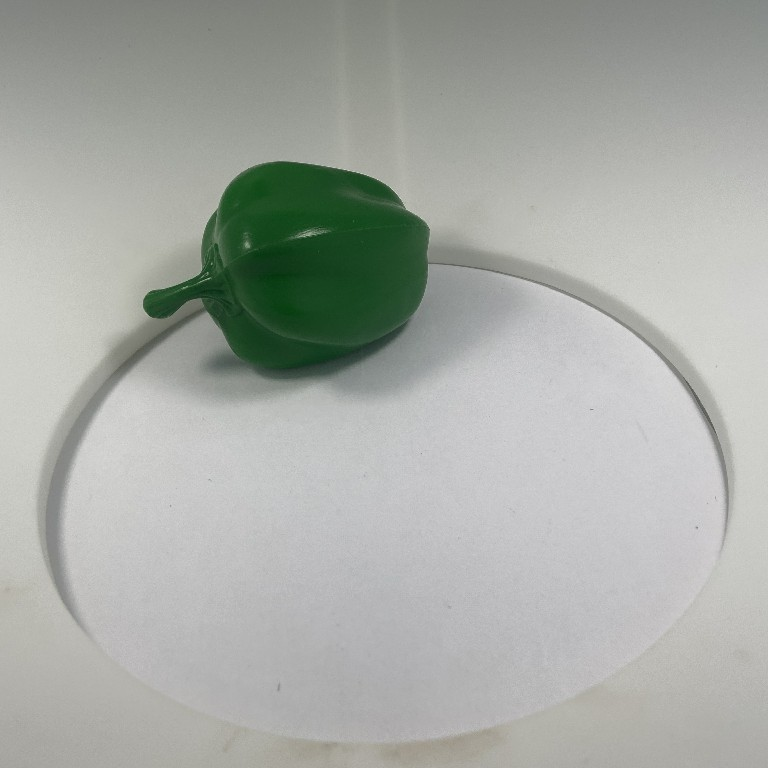fruit_pepper: (133, 156, 441, 376)
